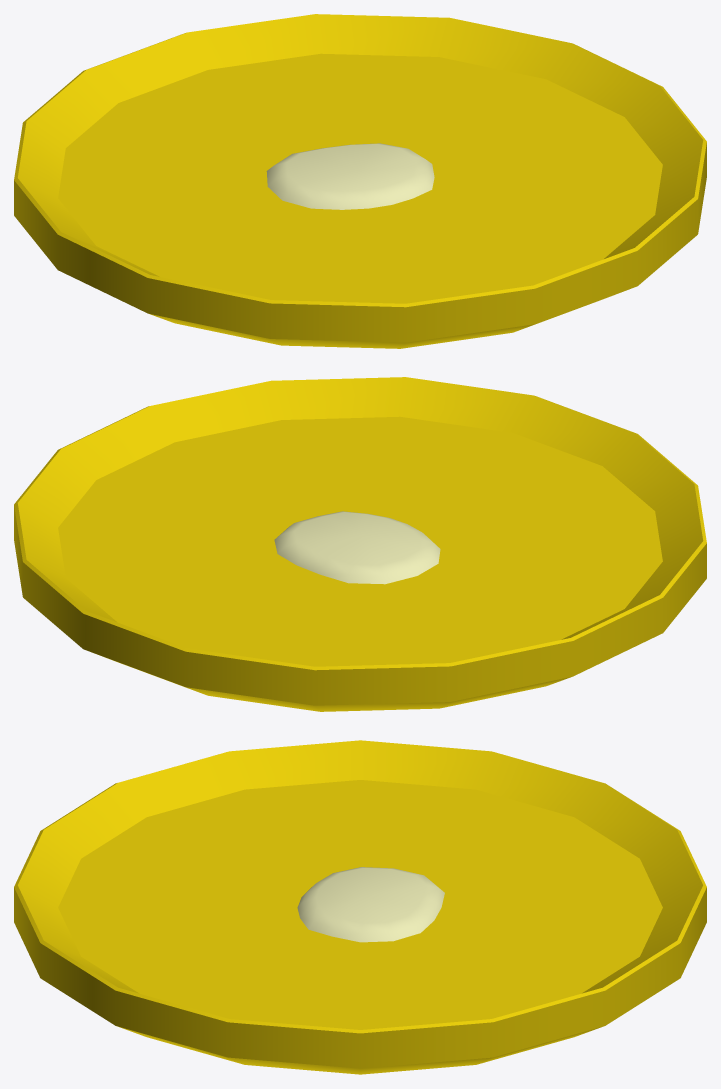
Rendered from CandleHolder.fbx.
3 renders of one model, top to bottom at view 1: azimuth 30°, elevation 25°; view 2: azimuth 150°, elevation 25°; view 3: azimuth 270°, elevation 25°, orthographic.
Parts seen in each view (by area): view 1: pCylinder88; view 2: pCylinder88; view 3: pCylinder88.
Boxes of the visible parts, left/top/right/bottom form: pCylinder88: left=14, top=14, right=706, bottom=348; pCylinder88: left=14, top=377, right=706, bottom=711; pCylinder88: left=14, top=740, right=706, bottom=1074.
Size of the model in its own units: 1.6 by 0.1574 by 1.6.
